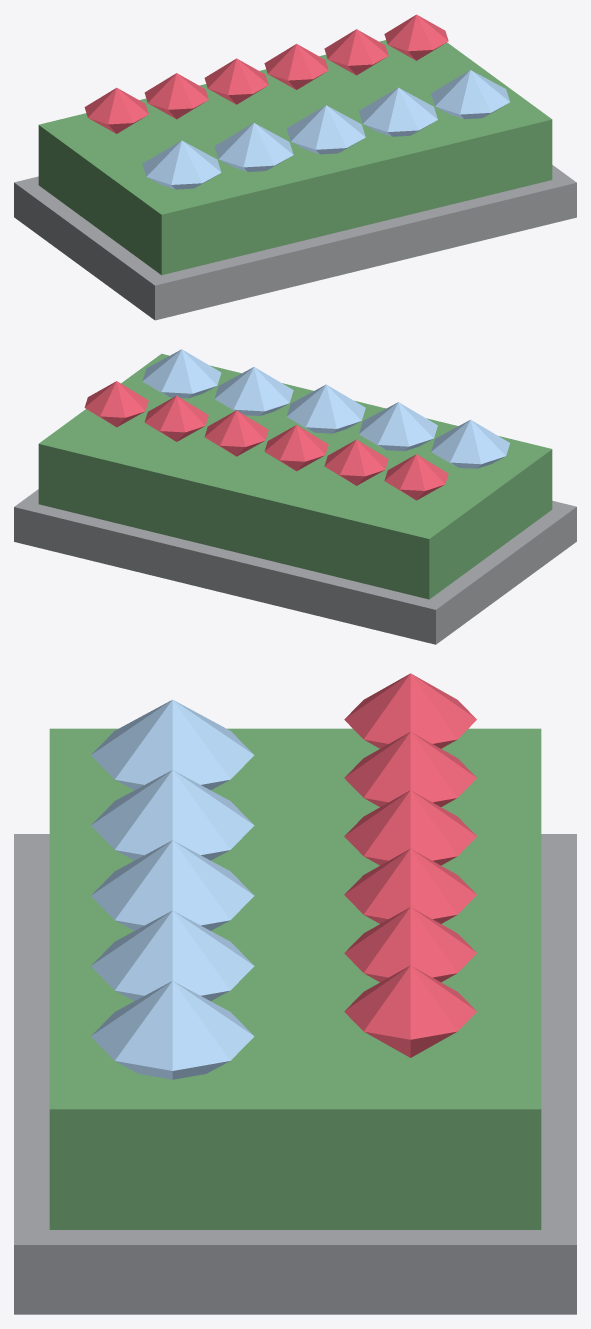
The model's file is flora_20_dalat_velvet_rose_and_hydrangea_terrace_row.glb.
The picture shows the model from 3 angles, top to bottom: view 1: azimuth 30°, elevation 25°; view 2: azimuth 150°, elevation 25°; view 3: azimuth 270°, elevation 25°; orthographic projection. The views are drawn at different scales.
Parts seen in each view (by area): view 1: flora_20_dalat_velvet_rose_and_hydrangea_terrace_row; view 2: flora_20_dalat_velvet_rose_and_hydrangea_terrace_row; view 3: flora_20_dalat_velvet_rose_and_hydrangea_terrace_row.
Boxes of the visible parts, x1,y1,x2,y2 form: flora_20_dalat_velvet_rose_and_hydrangea_terrace_row: (14, 14, 576, 320); flora_20_dalat_velvet_rose_and_hydrangea_terrace_row: (14, 349, 576, 644); flora_20_dalat_velvet_rose_and_hydrangea_terrace_row: (14, 673, 576, 1314).
Bounding box in the file's own units: 3.8 × 1.25 × 2.2.
